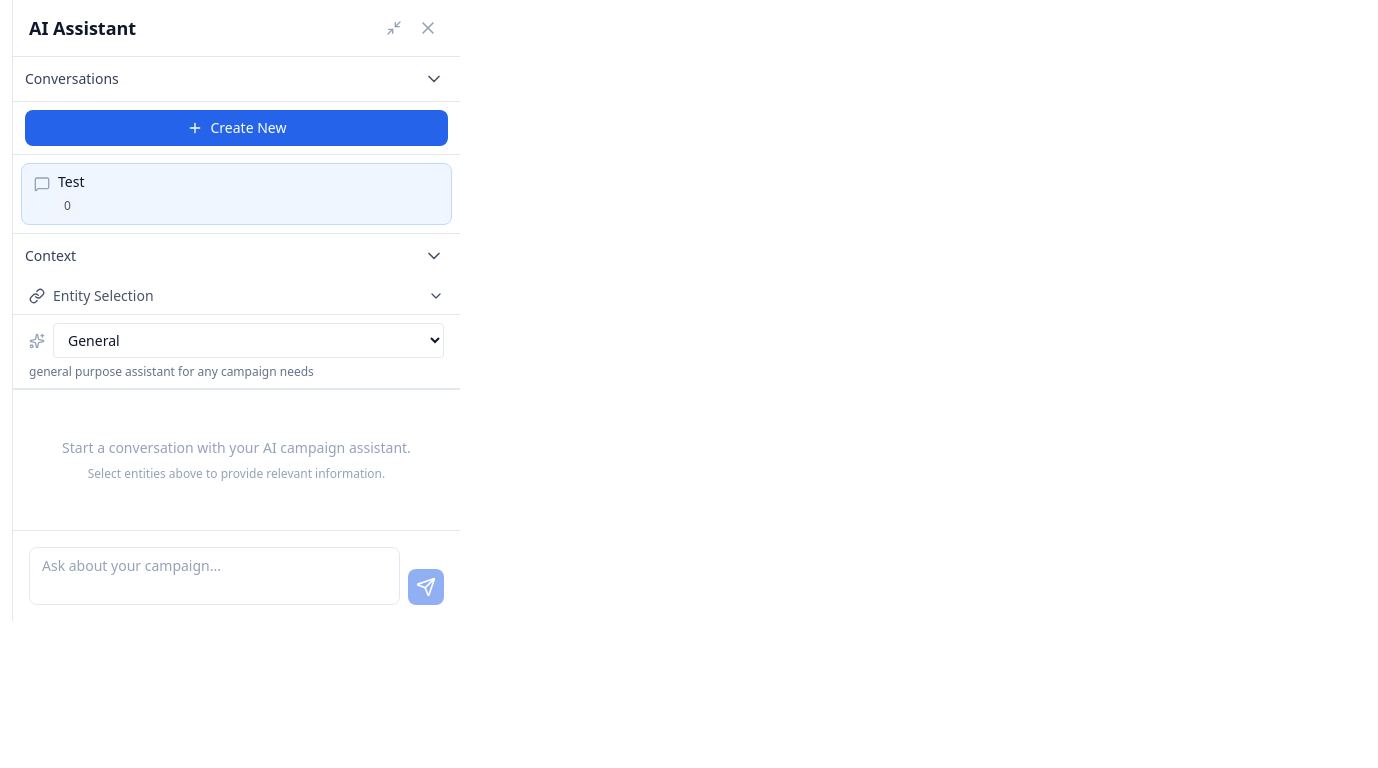
ChatPanel Component - Minimize Functionality (Issue #203) › should render floating button when minimized
Click the button named "minimize": [394, 28] box x1=380 y1=14 x2=408 y2=42
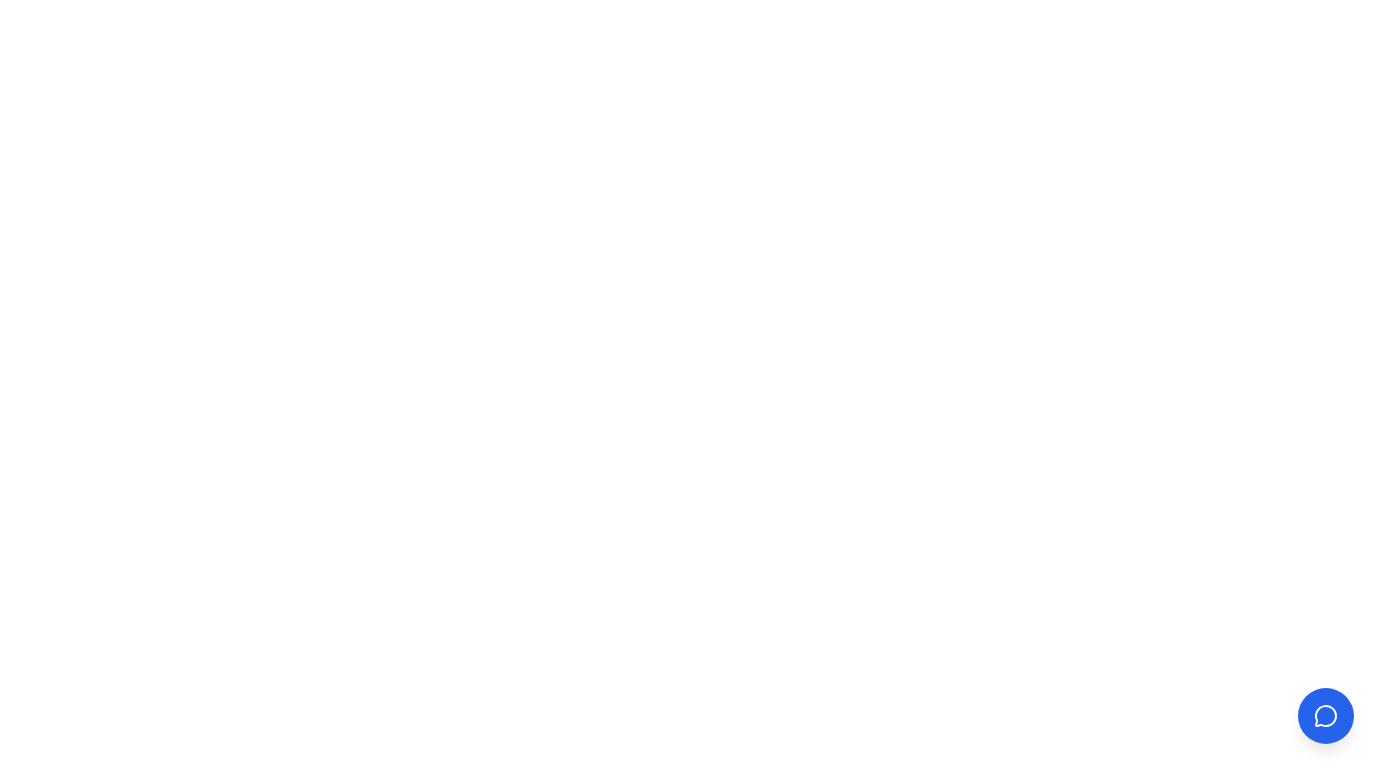
Now the button named "open chat" is shown, box x1=1298 y1=688 x2=1354 y2=744
